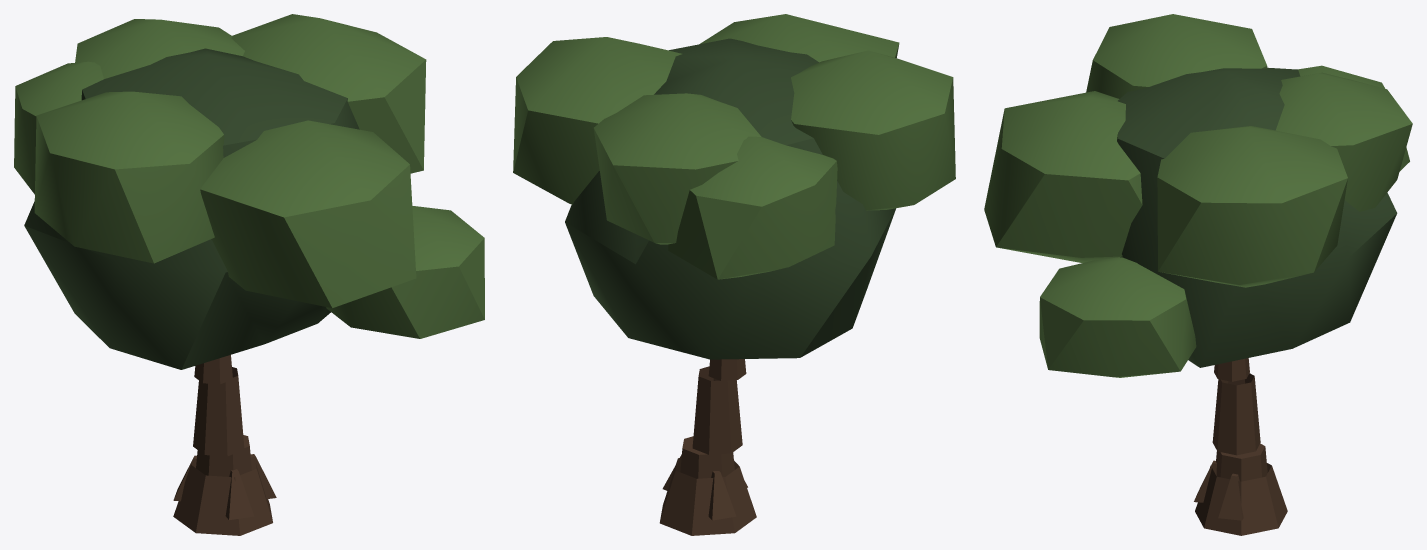
Rendered from oak_tree_01.glb.
3 views of the same model, side by side, from view 1: azimuth 30°, elevation 25°; view 2: azimuth 150°, elevation 25°; view 3: azimuth 270°, elevation 25° (orthographic). The views are drawn at different scales.
Visible parts, largest first — view 1: oak_tree_01_lod0; view 2: oak_tree_01_lod0; view 3: oak_tree_01_lod0.
Boxes of the visible parts, x1=… form: oak_tree_01_lod0: x1=14, y1=14, x2=484, y2=535; oak_tree_01_lod0: x1=513, y1=14, x2=955, y2=535; oak_tree_01_lod0: x1=984, y1=14, x2=1412, y2=535.
Size of what is drawn, in the model's own units: 7.17 by 8.49 by 7.43.
